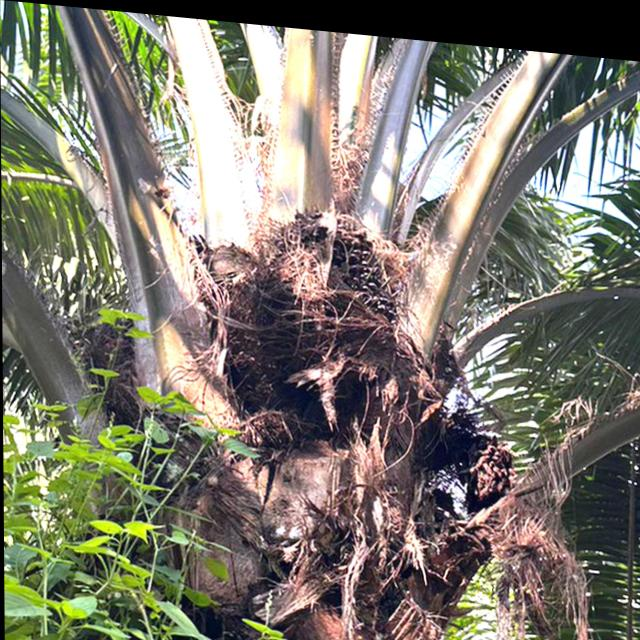ripe: (260, 189, 402, 356)
